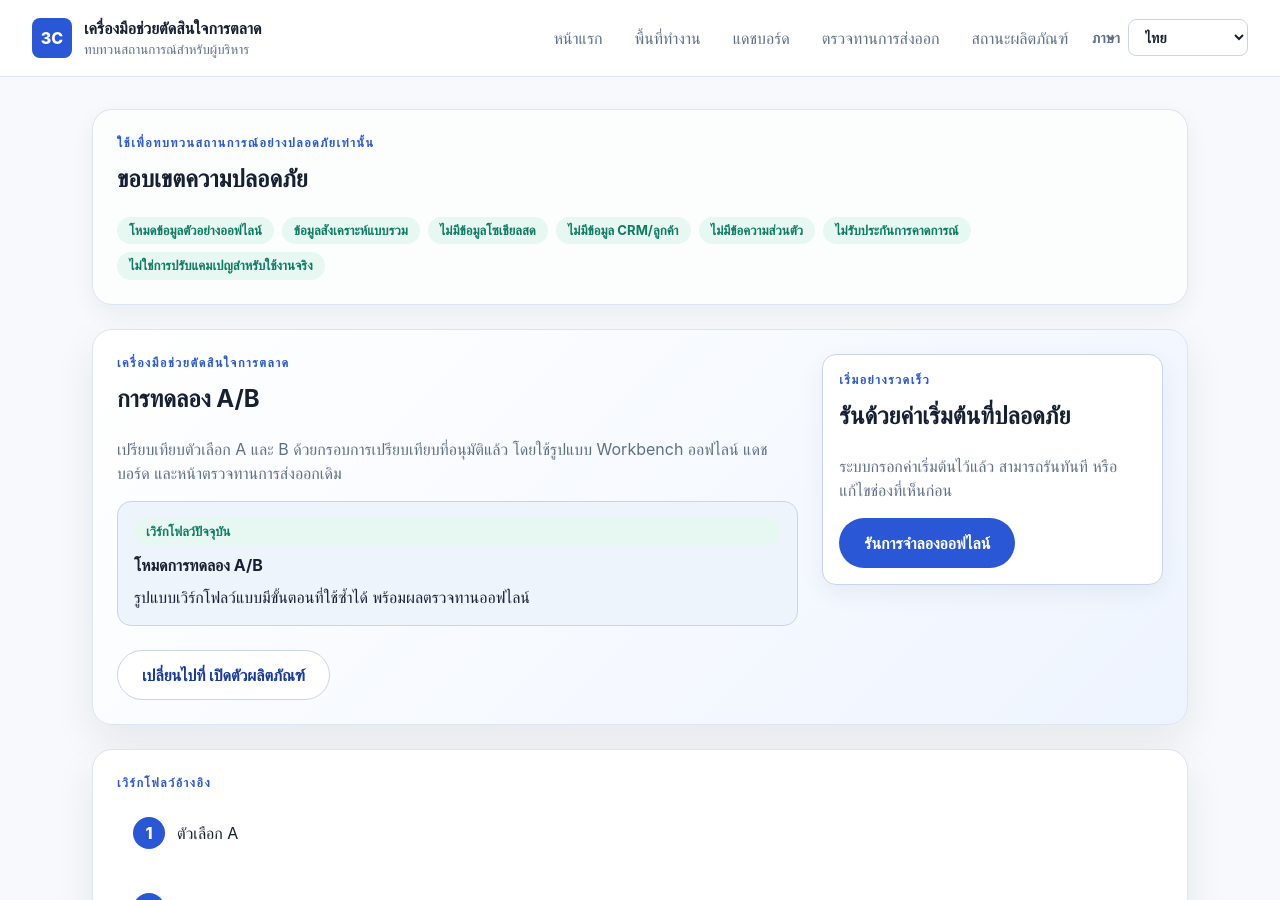
Scenario: M18 Thai-first internationalization › renders Thai and English labels for /workbench/ab-experiment
The image size is (1280, 900).
Check: the heading "การทดลอง A/B" is shown, box [117, 384, 260, 413]
Step 1. Select "English" in the dropdown labelled "ภาษา" → (1188,38), box [1128, 20, 1248, 56]
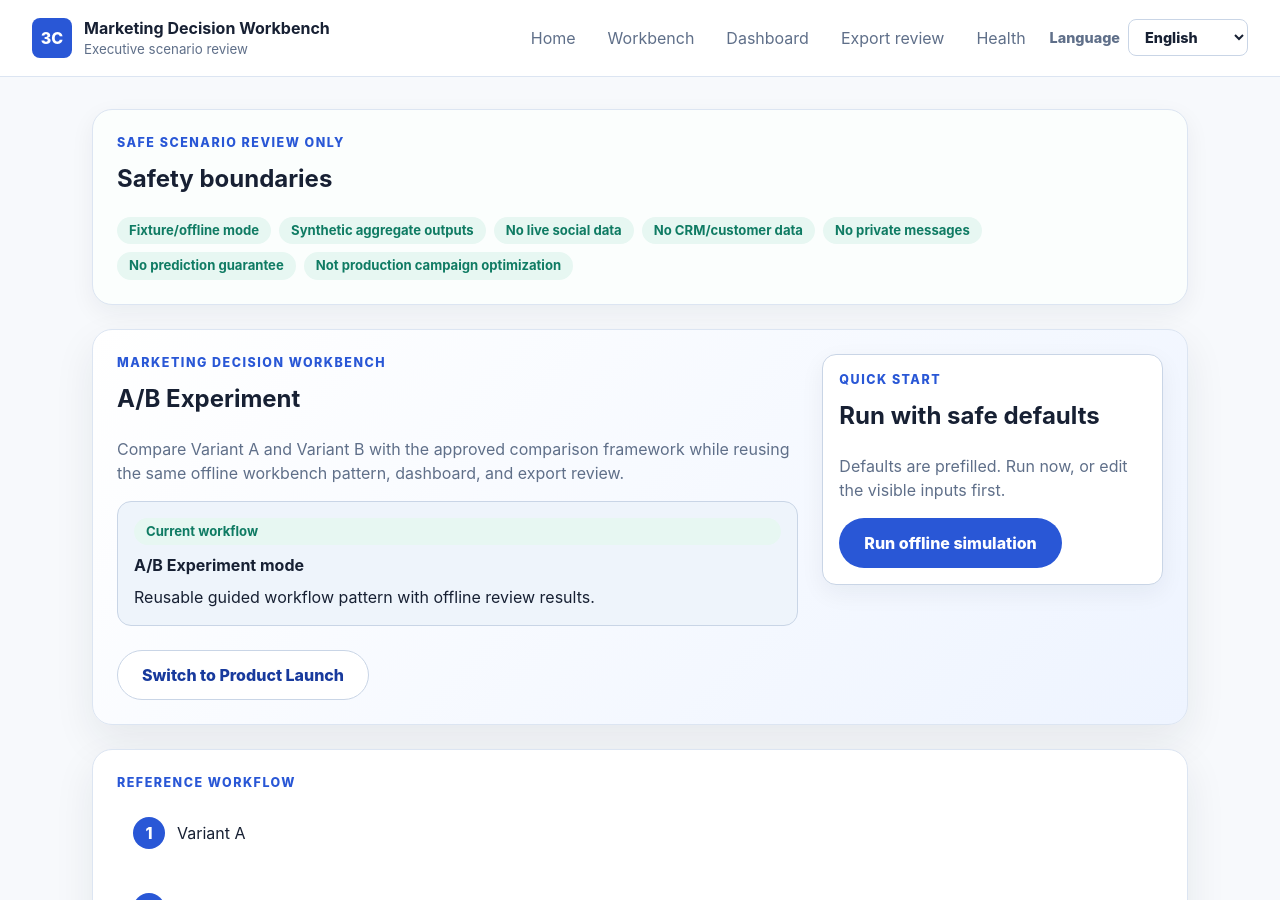
Check: the heading "A/B Experiment" is shown, box [117, 384, 300, 413]
